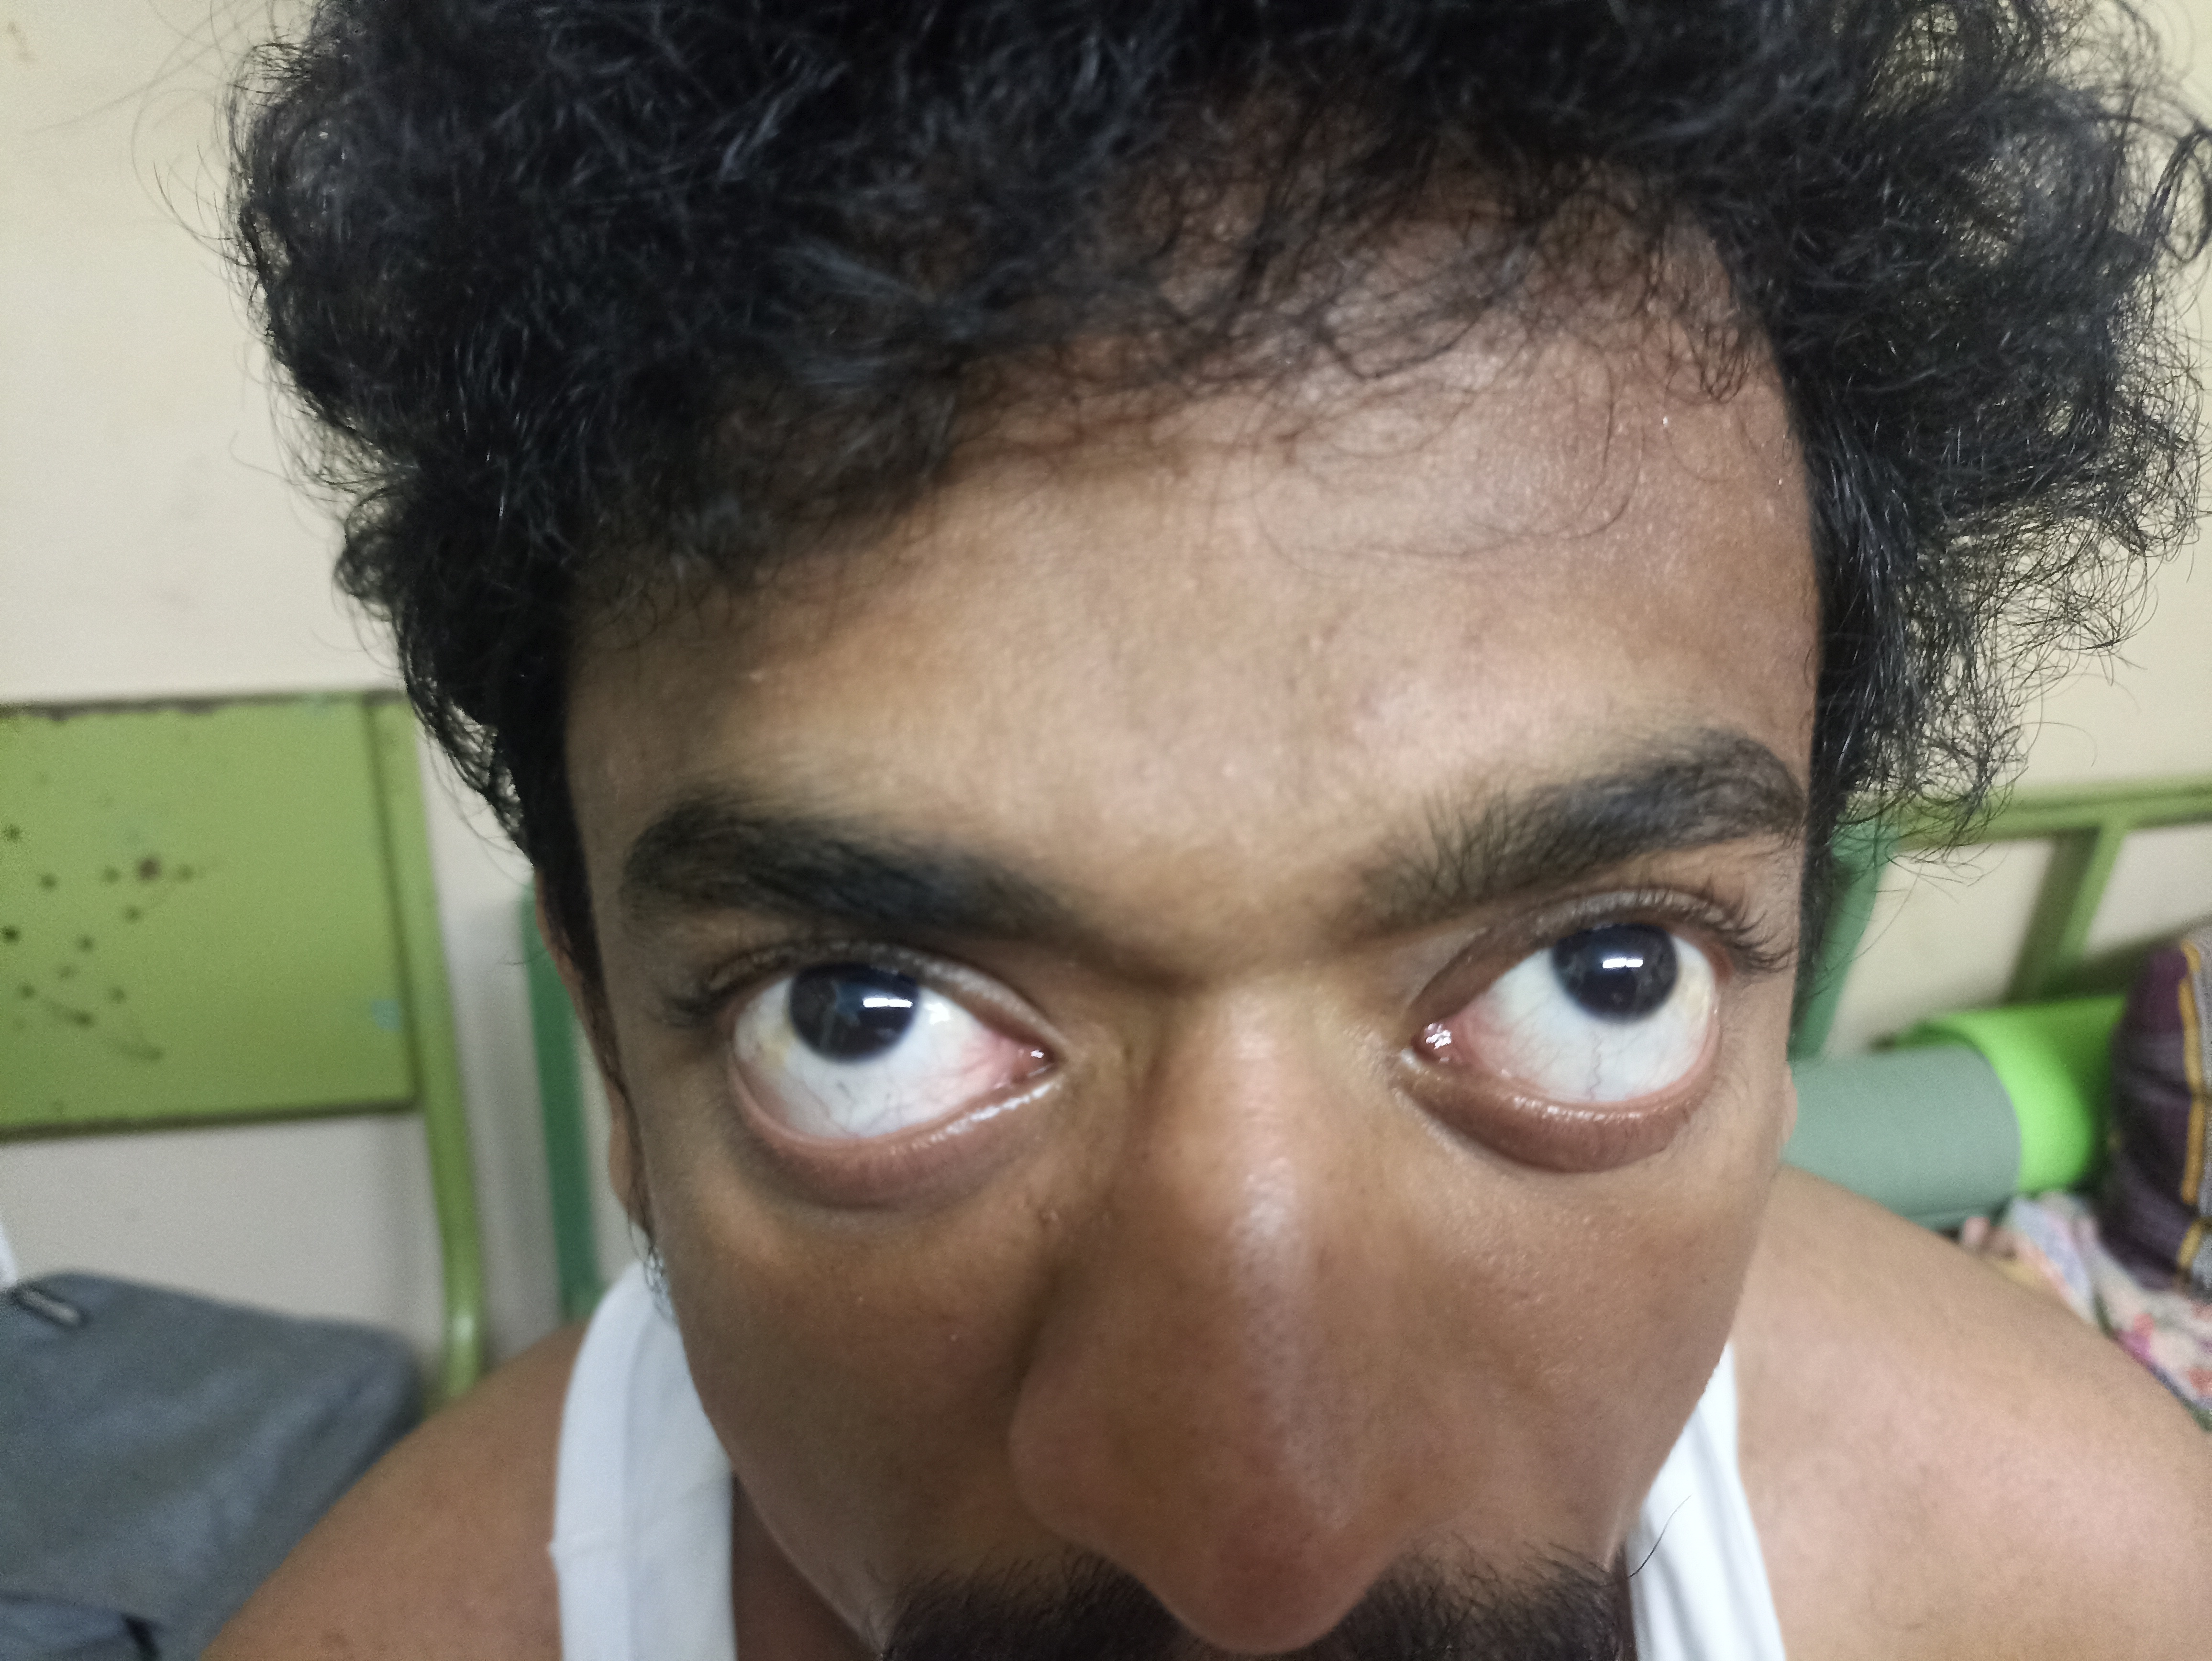EYE UP: (548, 689, 1247, 1293), (1347, 689, 1994, 1281)
